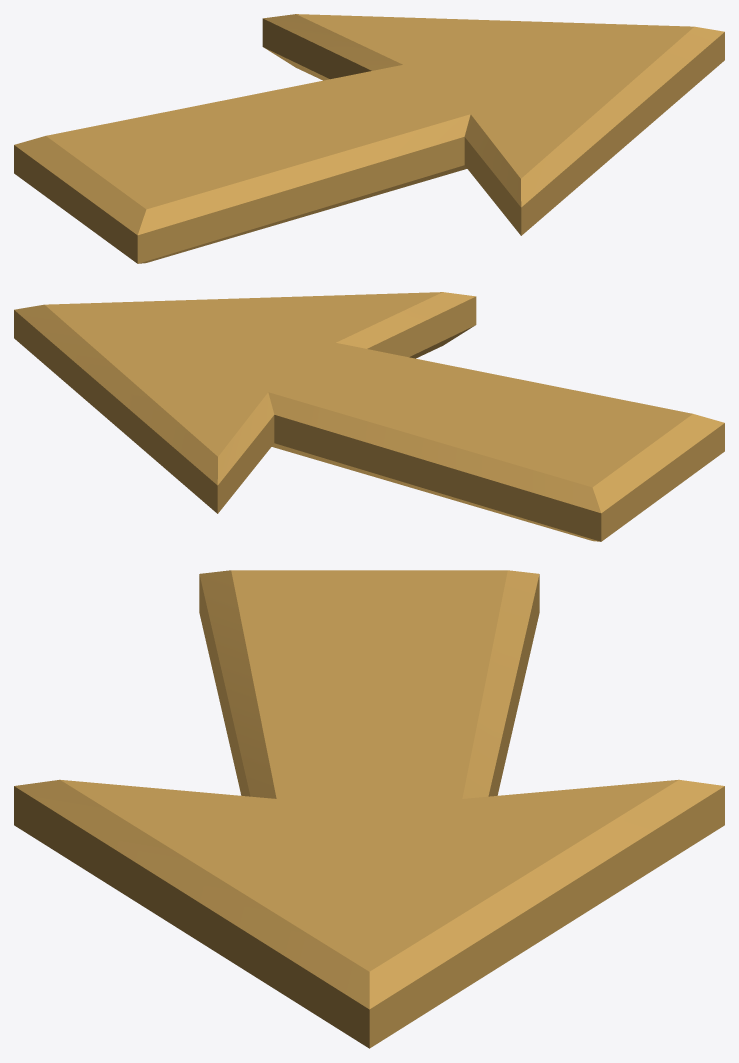
File: Flecha.fbx
3 views of the same model, one above another, from view 1: azimuth 30°, elevation 25°; view 2: azimuth 150°, elevation 25°; view 3: azimuth 270°, elevation 25° (orthographic). The views are drawn at different scales.
Parts seen in each view (by area): view 1: Object001; view 2: Object001; view 3: Object001.
Boxes of the visible parts, x1,y1,x2,y2 form: Object001: (14, 14, 724, 263); Object001: (14, 292, 724, 541); Object001: (14, 570, 724, 1048).
Bounding box in the file's own units: 117 × 9.2 × 80.4.
